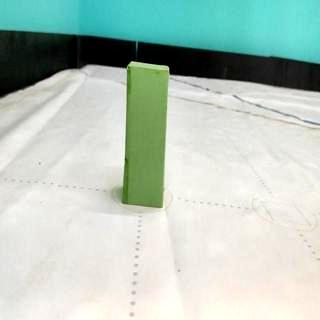greenbox: (119, 58, 172, 208)
